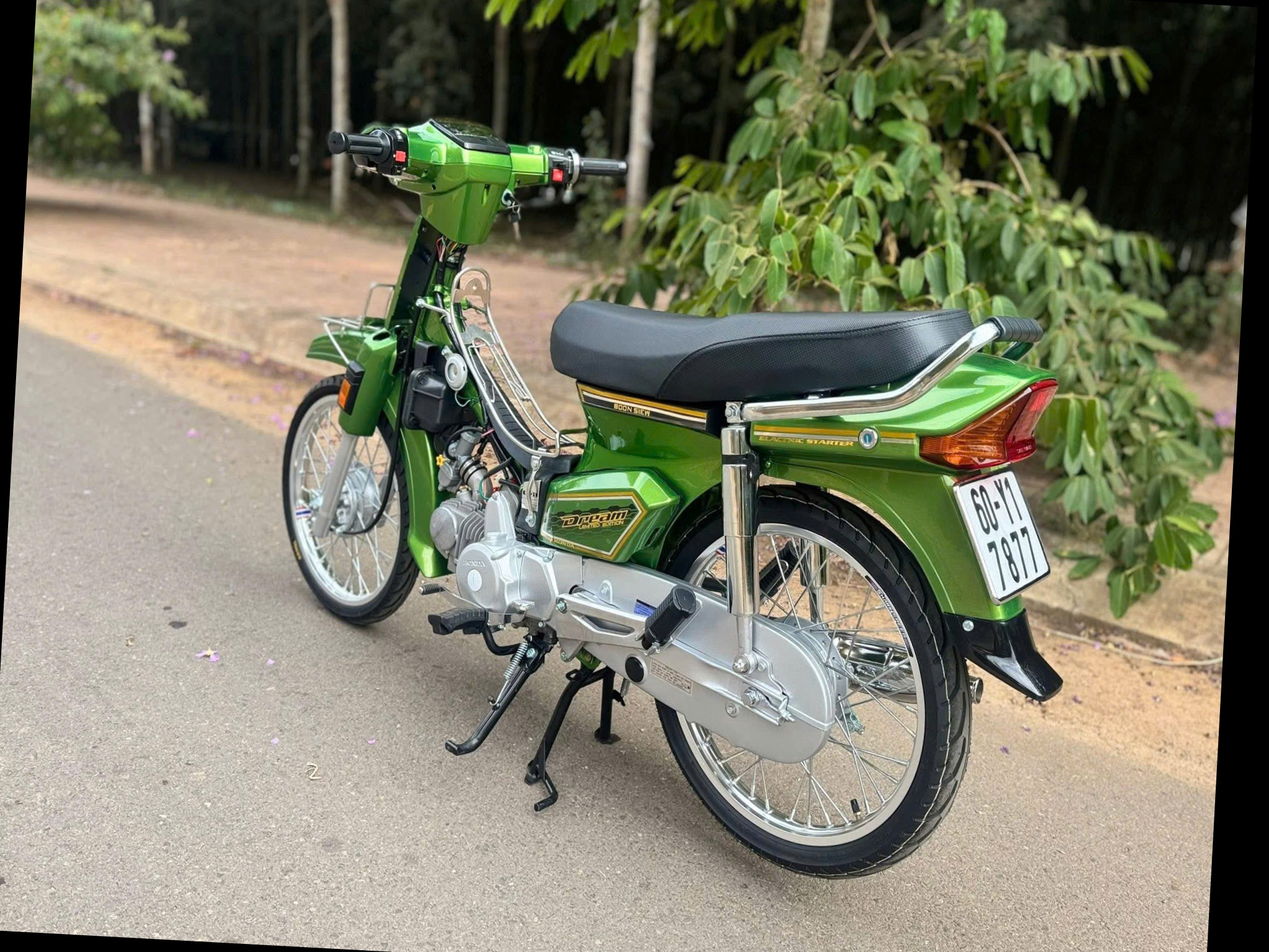Bien-so: (968, 489, 1081, 632)
